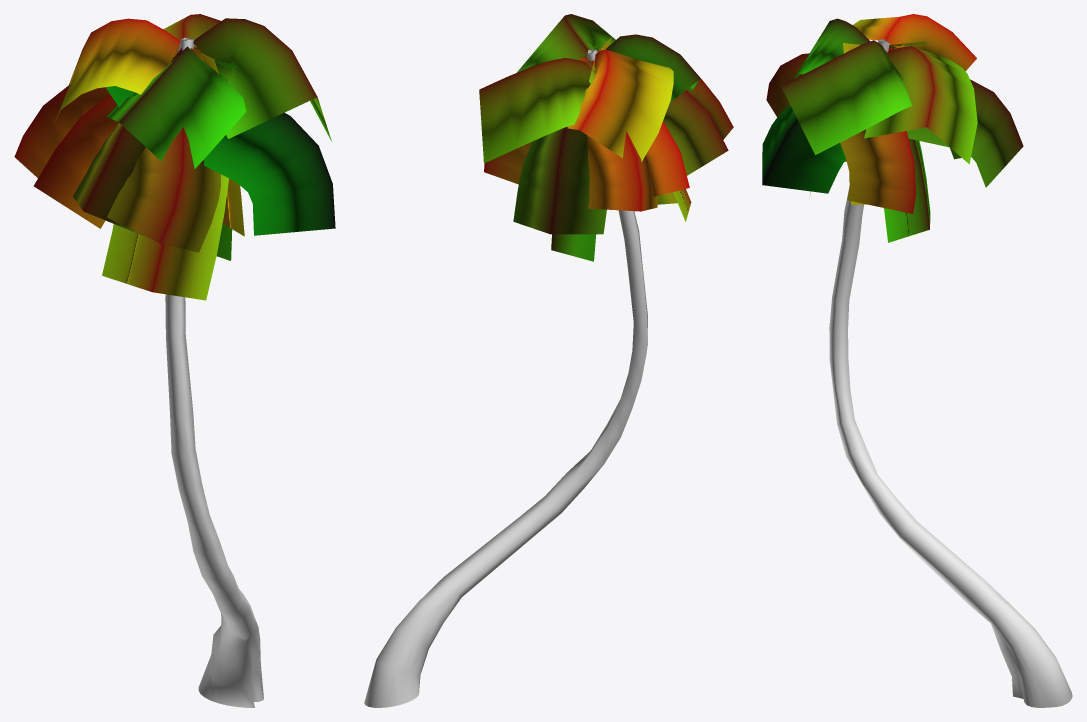
File: Type_7_Tree_4.fbx
3 views of the same model, side by side, from view 1: azimuth 30°, elevation 25°; view 2: azimuth 150°, elevation 25°; view 3: azimuth 270°, elevation 25° (orthographic). The views are drawn at different scales.
Parts seen in each view (by area): view 1: Leaf, Trunk; view 2: Leaf, Trunk; view 3: Leaf, Trunk.
Part boxes in pixels (x1,y1,x2,y2): Leaf: (14,14,335,300); Trunk: (165,37,263,707); Leaf: (479,14,733,261); Trunk: (364,49,647,707); Leaf: (762,14,1023,242); Trunk: (829,39,1072,707).
Bounding box in the file's own units: 881 × 2132 × 975.
